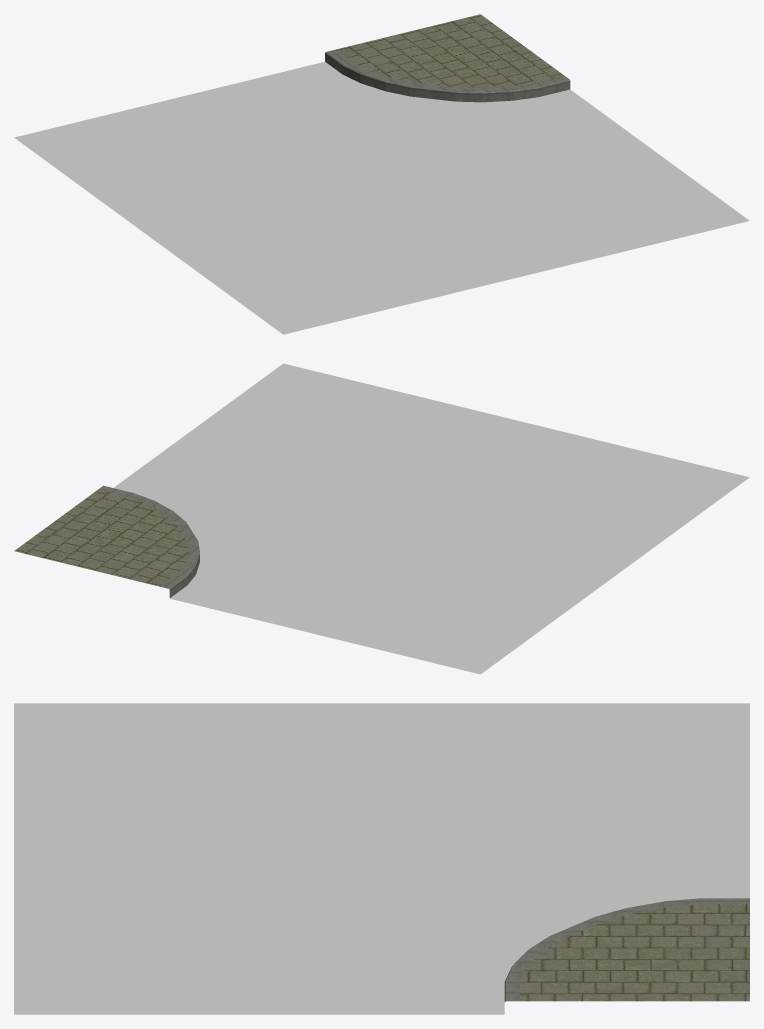
Rendered from CT_Road_Corner_01.fbx.
3 renders of one model, top to bottom at view 1: azimuth 30°, elevation 25°; view 2: azimuth 150°, elevation 25°; view 3: azimuth 270°, elevation 25°, orthographic. The views are drawn at different scales.
Visible parts, largest first — view 1: CT_Road_Corner_01; view 2: CT_Road_Corner_01; view 3: CT_Road_Corner_01.
Part boxes in pixels (bbox=[...]): CT_Road_Corner_01: bbox=[14, 14, 749, 334]; CT_Road_Corner_01: bbox=[14, 363, 749, 674]; CT_Road_Corner_01: bbox=[14, 703, 749, 1014].
Bounding box in the file's own units: 768 × 15 × 768.
